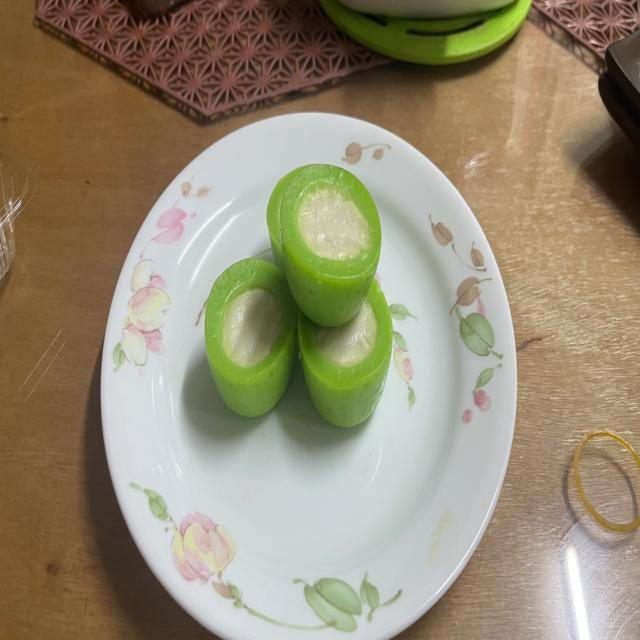nona-manis: (280, 164, 381, 327), (205, 258, 298, 418), (298, 280, 392, 427), (266, 167, 305, 271)
